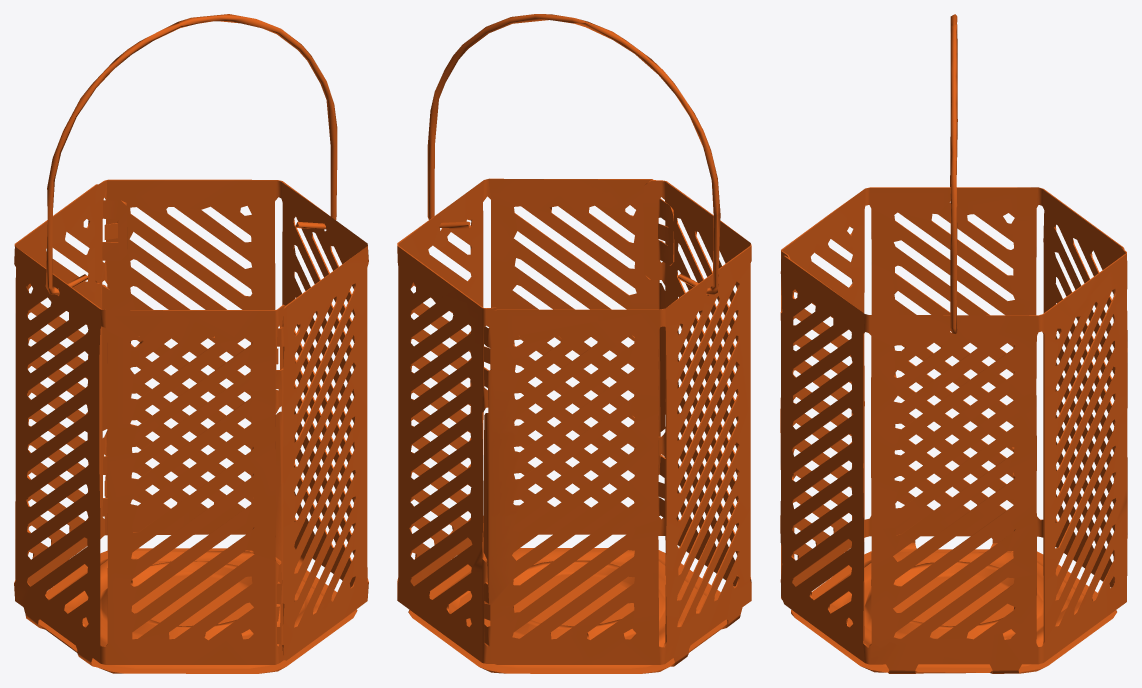
File: 12 - VÅRSYREN Lantern for tealight - brown-orange 12 cm.glb
3 renders of one model, left to right at view 1: azimuth 30°, elevation 25°; view 2: azimuth 150°, elevation 25°; view 3: azimuth 270°, elevation 25°, orthographic.
Parts seen in each view (by area): view 1: ASY_ART_50587442_S01_NV01; view 2: ASY_ART_50587442_S01_NV01; view 3: ASY_ART_50587442_S01_NV01.
Boxes of the visible parts, x1=… form: ASY_ART_50587442_S01_NV01: x1=14, y1=14, x2=368, y2=673; ASY_ART_50587442_S01_NV01: x1=397, y1=14, x2=751, y2=673; ASY_ART_50587442_S01_NV01: x1=780, y1=14, x2=1127, y2=673.
Size of the model in its own units: 0.1022 by 0.1996 by 0.1076.
1 material, 1 textured.
